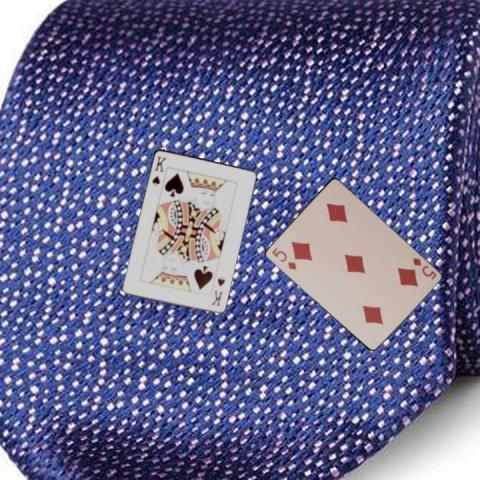5d: (269, 245, 298, 271), (410, 254, 438, 280)
Ks: (150, 153, 168, 187), (209, 275, 226, 307)
